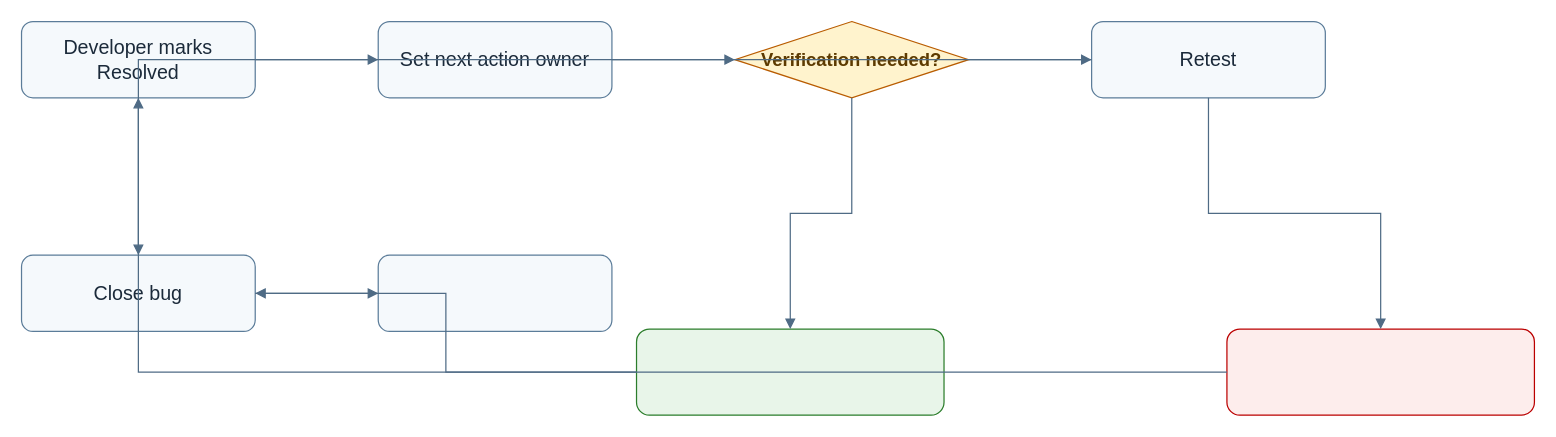
Image size: 1556x437. Some labels were removed from this diagram. Each missing label, with the centre of its shape:
"No verification required and accepted" belongs at (x=789, y=371).
"Retest failed Reopen and return to Assigned" belongs at (x=1380, y=371).
"Write history and notify" belongs at (x=494, y=292).
